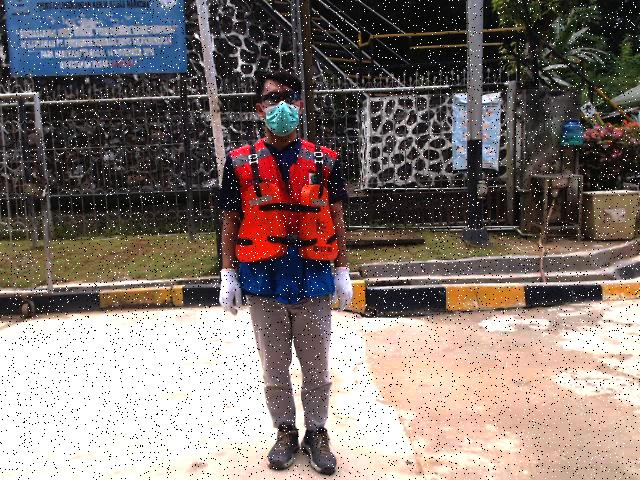glasses: (262, 92, 301, 104)
gloves: (218, 266, 244, 317), (329, 266, 355, 313)
mask: (265, 103, 301, 137)
safety-shoes: (301, 426, 338, 475), (266, 423, 300, 470)
vest: (234, 181, 341, 263)
